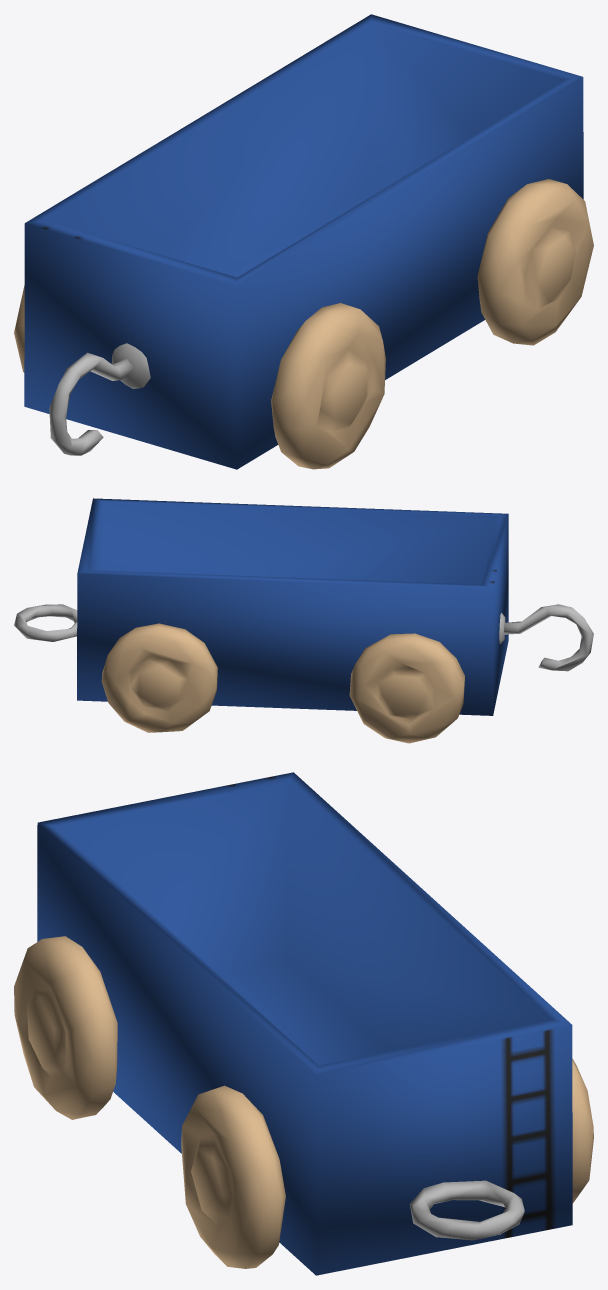
Rendered from blu.fbx.
The picture shows the model from 3 angles, top to bottom: view 1: azimuth 30°, elevation 25°; view 2: azimuth 150°, elevation 25°; view 3: azimuth 270°, elevation 25°; orthographic projection. The views are drawn at different scales.
Parts seen in each view (by area): view 1: vagone; view 2: vagone; view 3: vagone.
Boxes of the visible parts, x1,y1,x2,y2 form: vagone: (14, 14, 593, 469); vagone: (14, 498, 593, 743); vagone: (14, 772, 593, 1275).
Bounding box in the file's own units: 587 × 181 × 407.
Materials: 3 (1 with a texture image).
